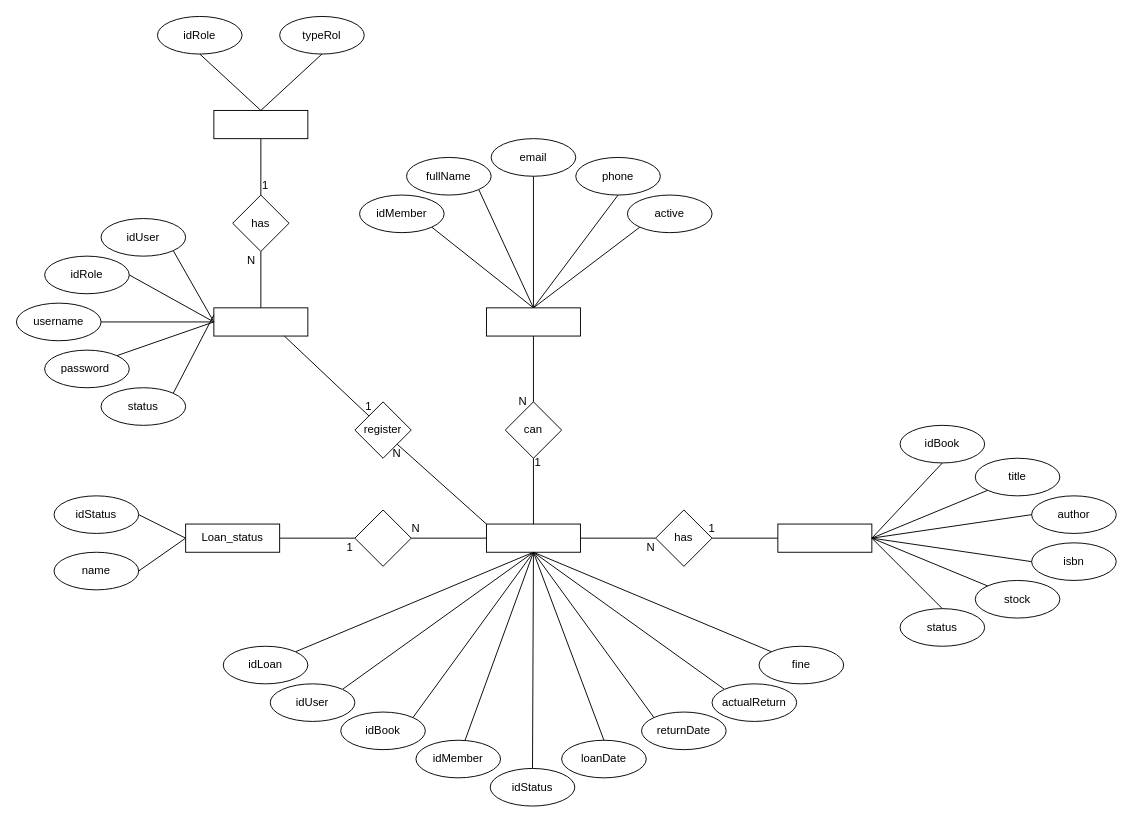
The diagram is 1133 pixels wide and 823 high, and some of its shapes have lost their labels. The centre of each missing label's shape, as x and y in pixels:
"Book" belongs at (x=824, y=537).
"gets" belongs at (x=382, y=537).
"Loan" belongs at (x=533, y=537).
"member" belongs at (x=533, y=321).
"Role" belongs at (x=260, y=124).
"User" belongs at (x=260, y=321).
